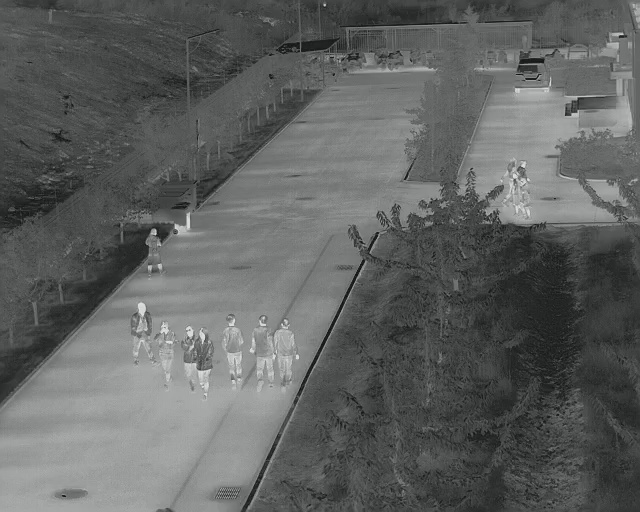person: (252, 316, 274, 388), (130, 302, 155, 364), (154, 321, 177, 388), (223, 315, 244, 387), (276, 320, 297, 389), (195, 328, 214, 400), (145, 228, 163, 276), (183, 327, 194, 389), (506, 158, 517, 210), (519, 162, 529, 219)
vehicle: (515, 59, 551, 96)
